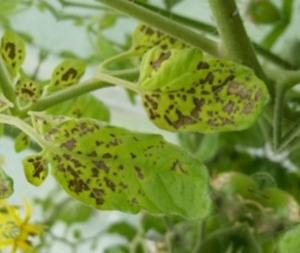Tomato leaf bacterial spot: (6, 85, 242, 253), (118, 27, 287, 172)
